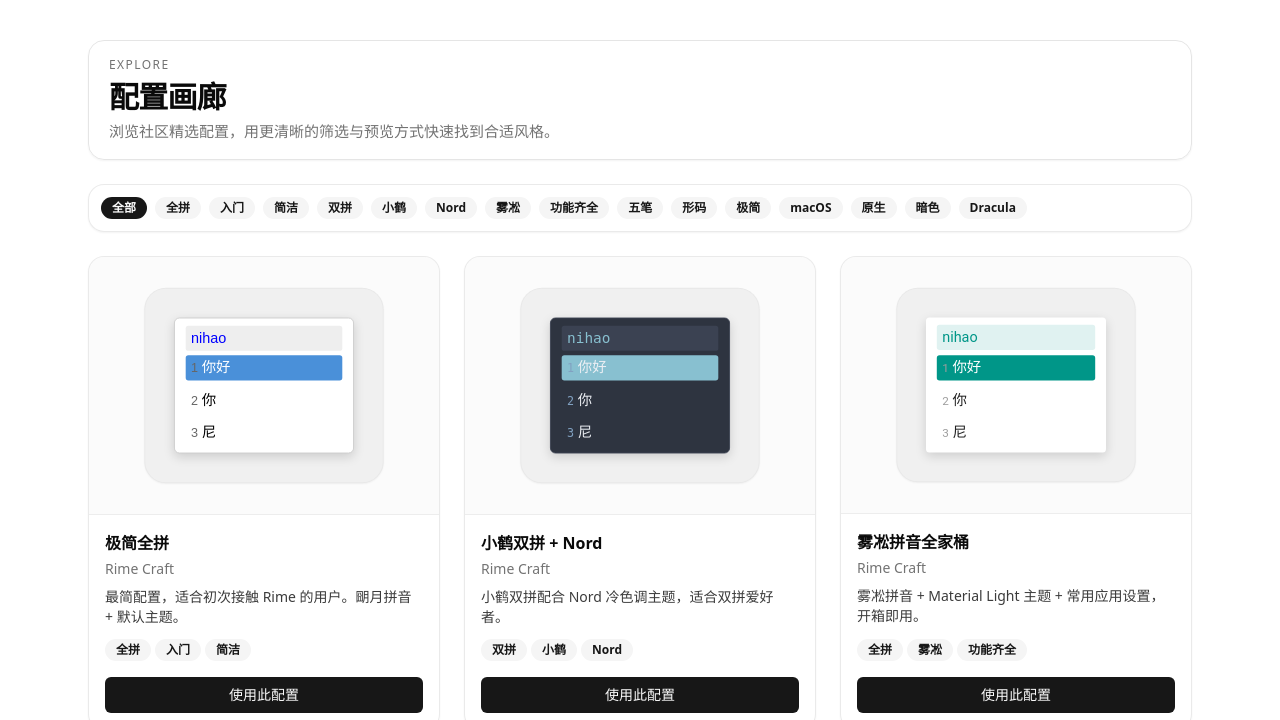
GalleryPage › filters the gallery by tag and resets back to the full result set
The image size is (1280, 720).
Check: the heading "极简全拼" is shown, box left=105, top=532, right=169, bottom=554
Check: the heading "小鹤双拼 + Nord" is shown, box left=481, top=532, right=602, bottom=554
Click the button "五笔".
click(640, 208)  # box left=617, top=197, right=663, bottom=219
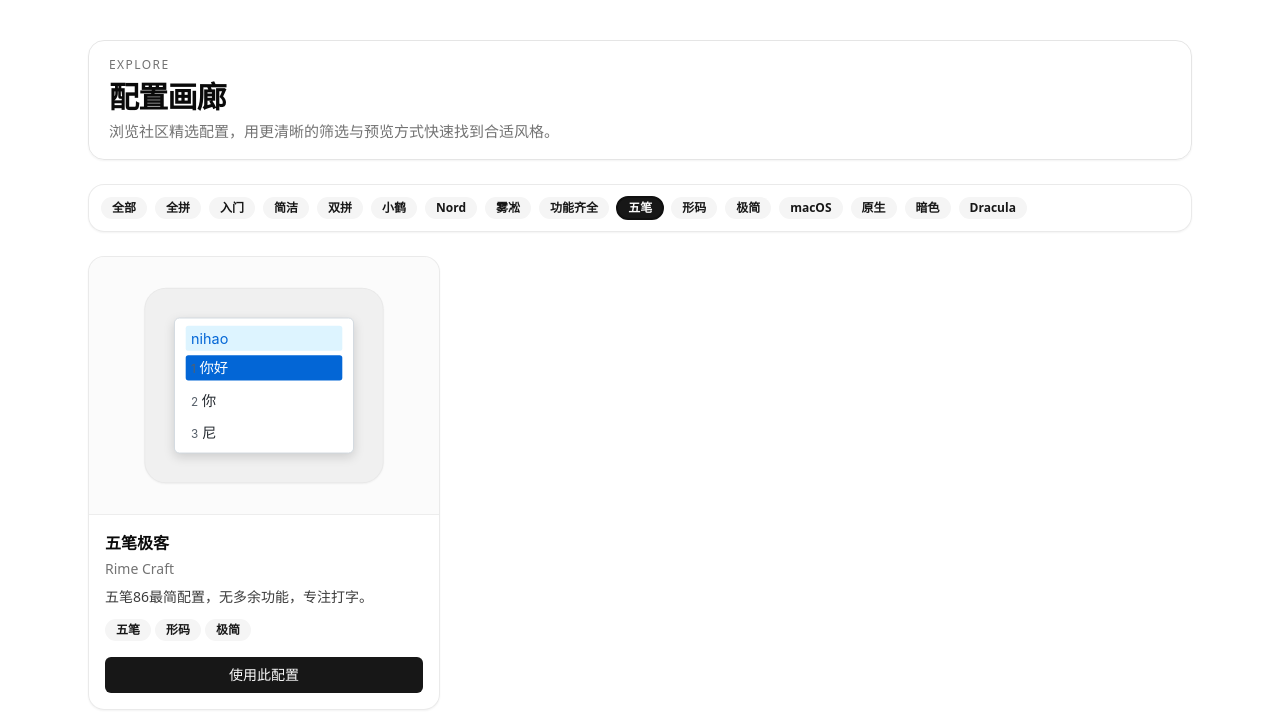
Check: the heading "五笔极客" is shown, box left=105, top=532, right=169, bottom=554
Check: the heading "极简全拼" is gone
Check: the heading "小鹤双拼 + Nord" is gone
Click the button "全部".
click(124, 208)  # box left=101, top=197, right=147, bottom=219
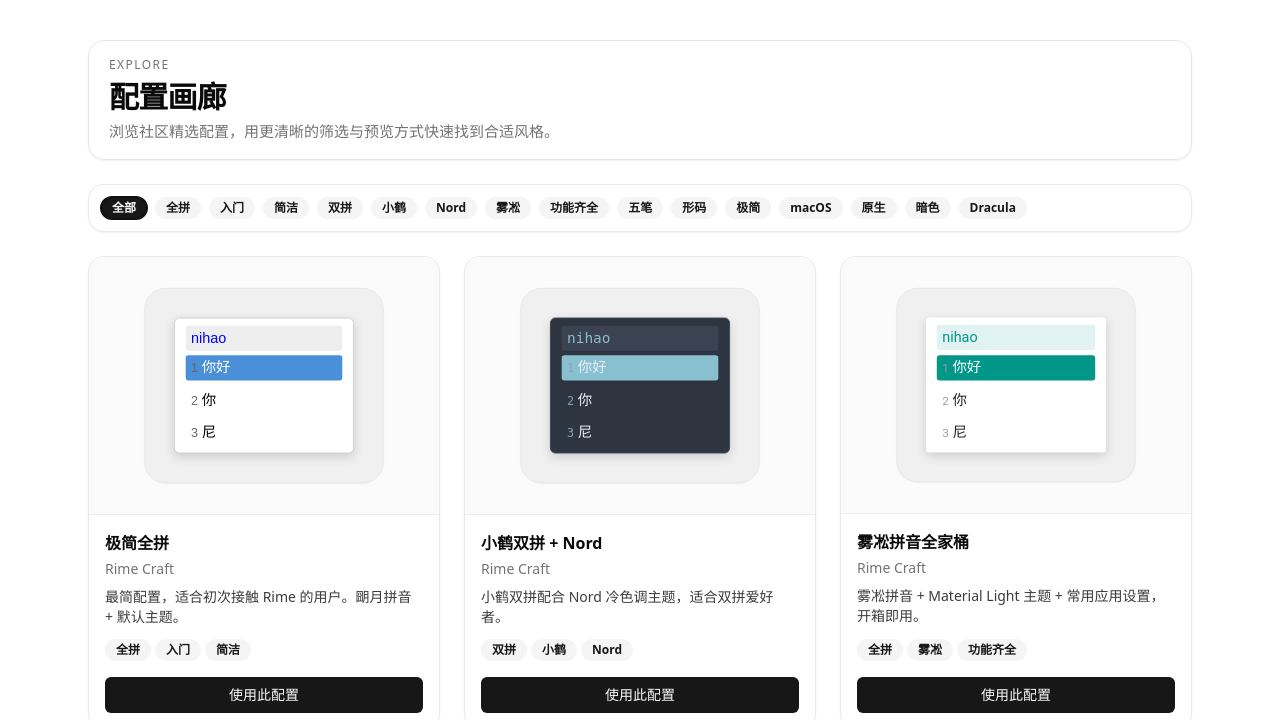
Check: the heading "极简全拼" is shown, box left=105, top=532, right=169, bottom=554
Check: the heading "小鹤双拼 + Nord" is shown, box left=481, top=532, right=602, bottom=554
